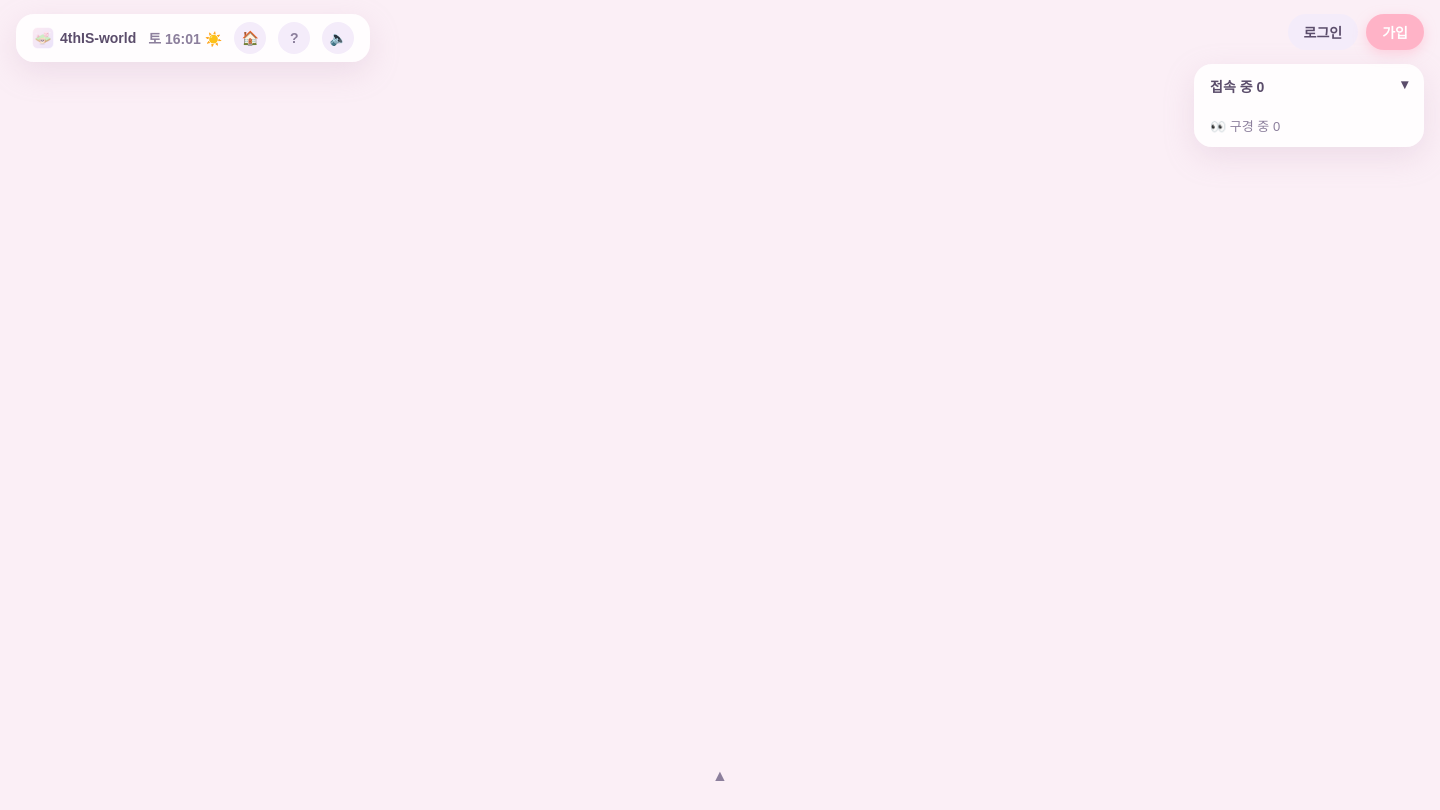
Test: UiRoot › Esc로 모달을 닫는다
The image size is (1440, 810).
Click the button "로그인": {"x": 1323, "y": 32} [1288, 14, 1358, 50]
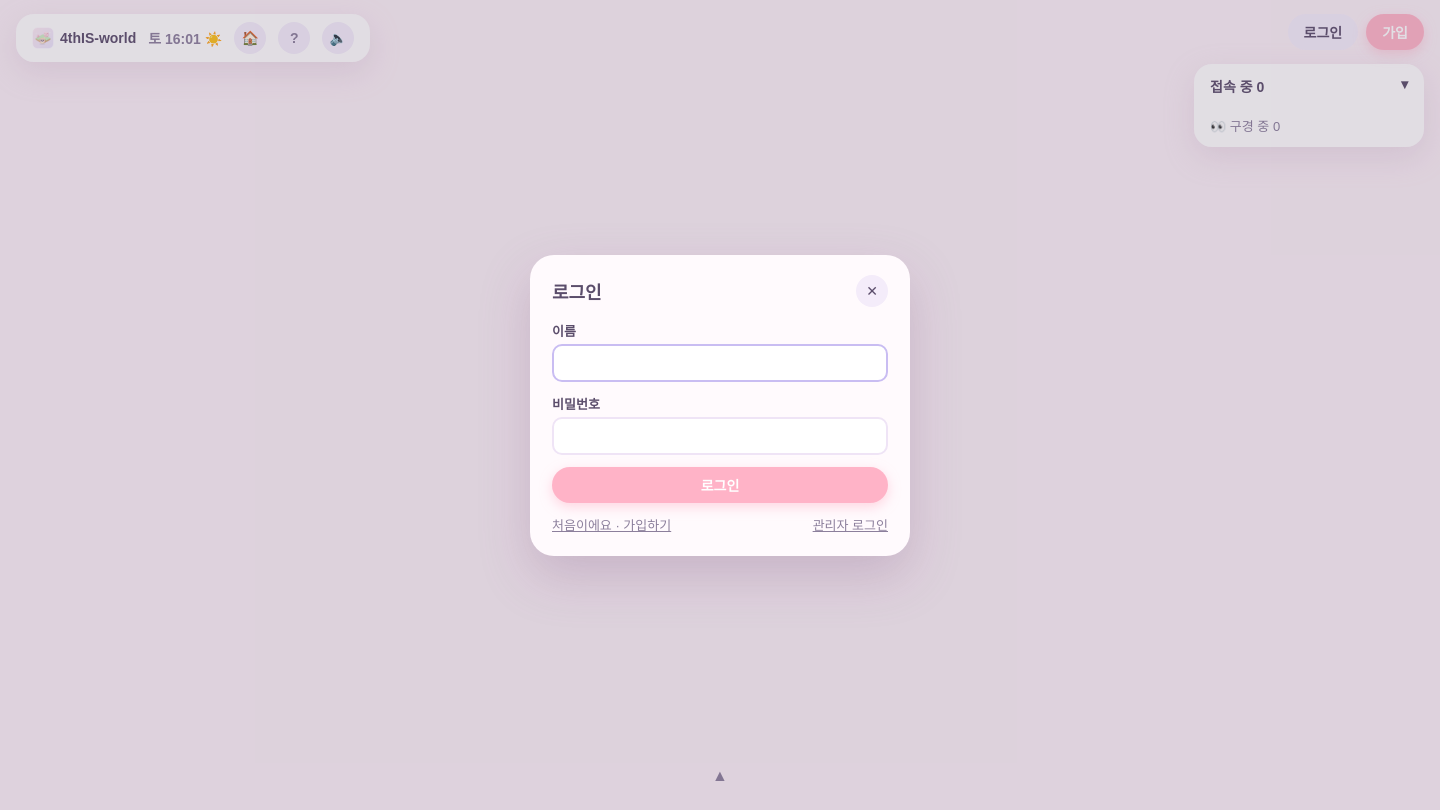
Press Escape
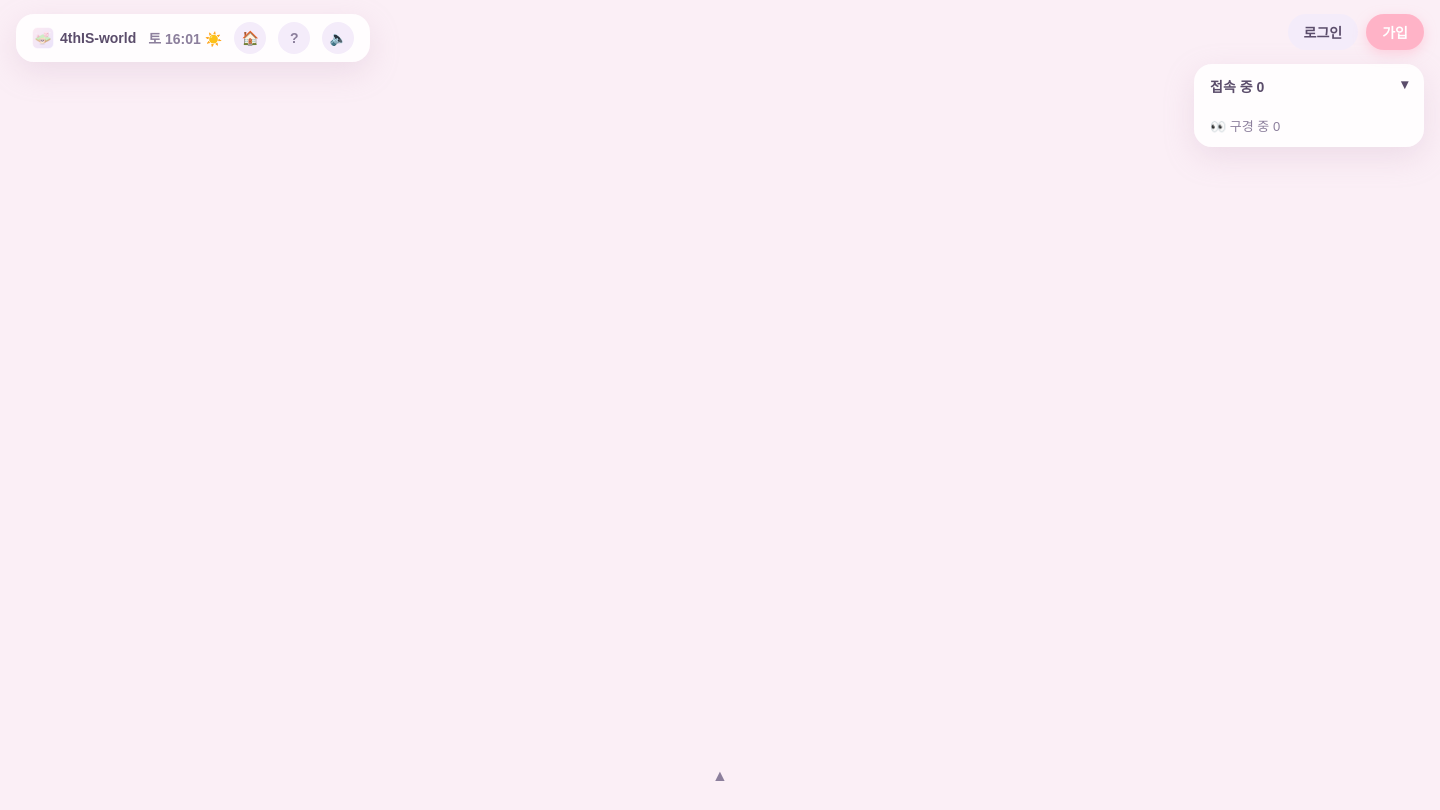
Expected: the dialog is gone
